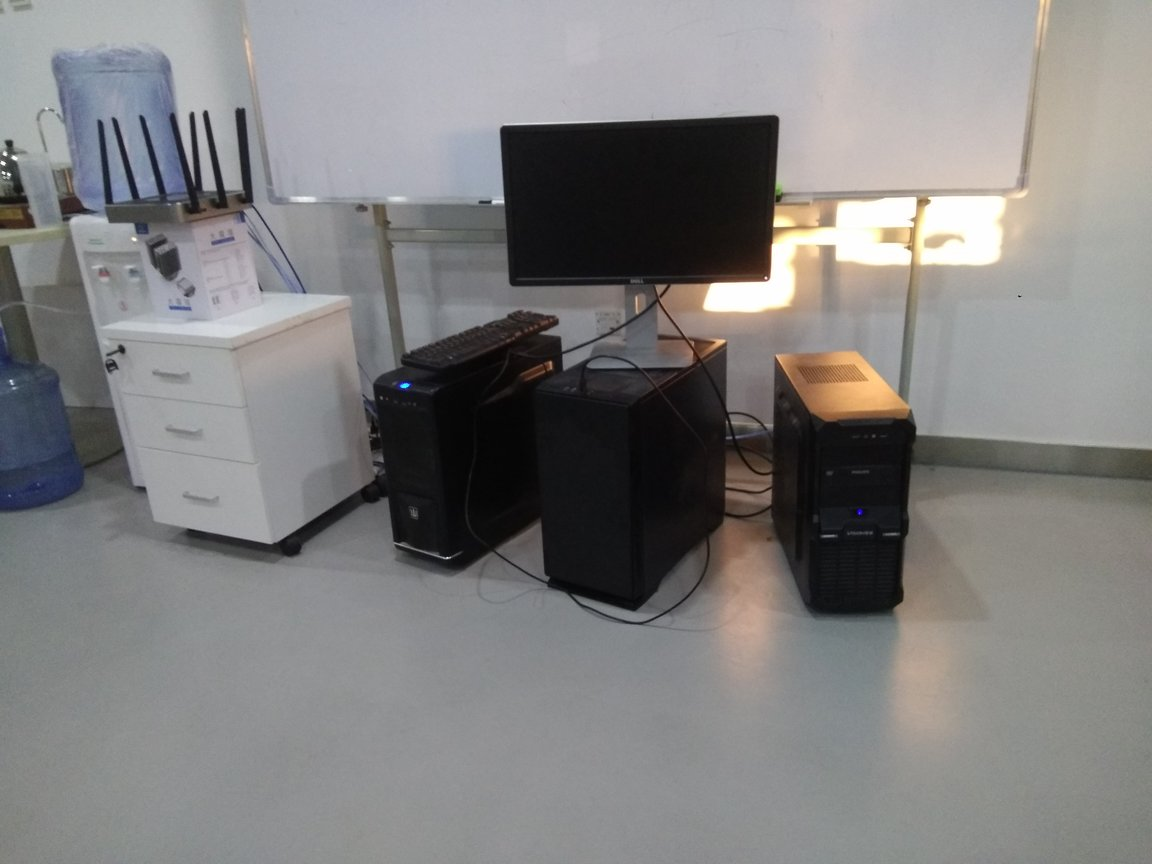computer: (538, 337, 742, 627), (373, 333, 572, 574), (769, 351, 918, 620)
drawer chest: (105, 294, 387, 570)
monitor: (499, 117, 787, 378)
scuttlebutt: (43, 37, 196, 222), (1, 346, 94, 514)
water dispenser: (66, 200, 233, 509)
